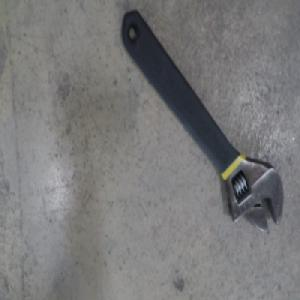AdjustableWrench: (121, 14, 283, 232)
